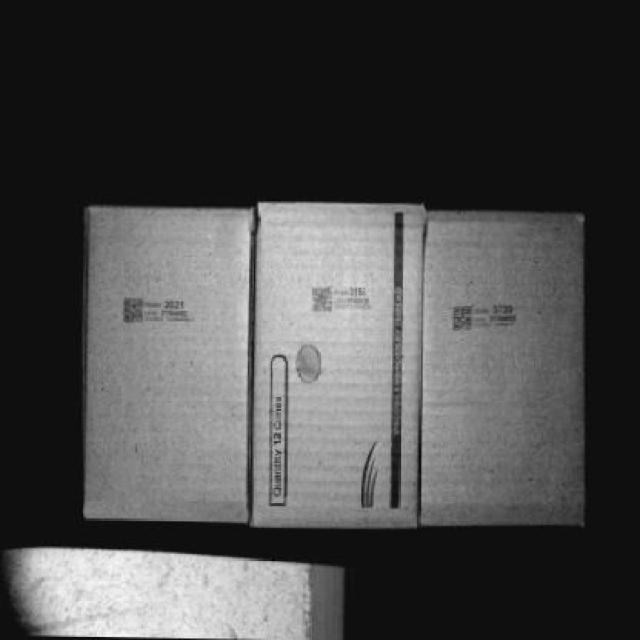box: (81, 200, 257, 522), (253, 203, 424, 528), (424, 207, 590, 524)
